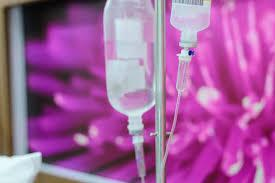Iv_Bottle: (104, 0, 153, 115), (170, 0, 210, 47)
